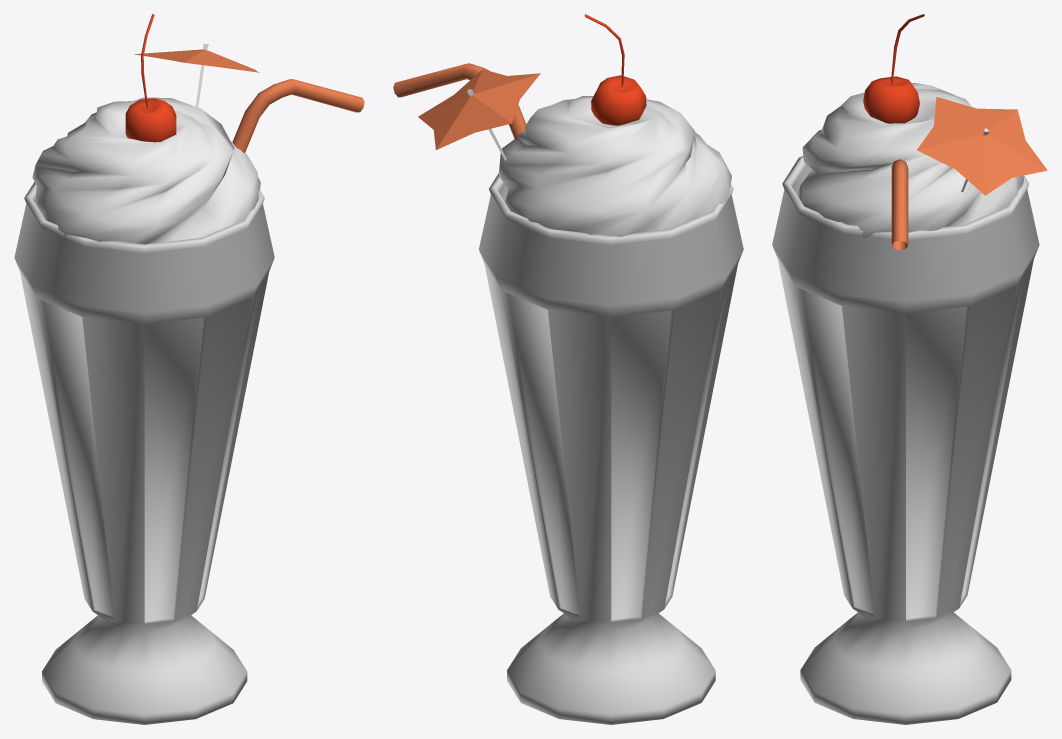
File: Milkshake.fbx
The picture shows the model from 3 angles, left to right: view 1: azimuth 30°, elevation 25°; view 2: azimuth 150°, elevation 25°; view 3: azimuth 270°, elevation 25°; orthographic projection. The views are drawn at different scales.
Visible parts, largest first — view 1: Cylinder, Icosphere, Cylinder.001, Sphere, Cone; view 2: Cylinder, Icosphere, Cone, Sphere, Cylinder.001; view 3: Cylinder, Icosphere, Cone, Sphere, Cylinder.001.
Part boxes in pixels (x1,y1,x2,y2): Cylinder: (14, 182, 274, 724); Icosphere: (32, 97, 260, 244); Cylinder.001: (232, 79, 364, 152); Sphere: (125, 14, 176, 142); Cone: (135, 49, 259, 72); Cylinder: (479, 174, 743, 724); Icosphere: (498, 96, 731, 236); Cone: (418, 69, 540, 149); Sphere: (584, 14, 646, 125); Cylinder.001: (393, 63, 526, 139); Cylinder: (772, 156, 1039, 724); Icosphere: (797, 83, 1023, 237); Cone: (917, 97, 1047, 195); Sphere: (863, 14, 924, 123); Cylinder.001: (891, 159, 908, 250).
Size of the model in its own units: 28.1 by 53.78 by 19.91.
